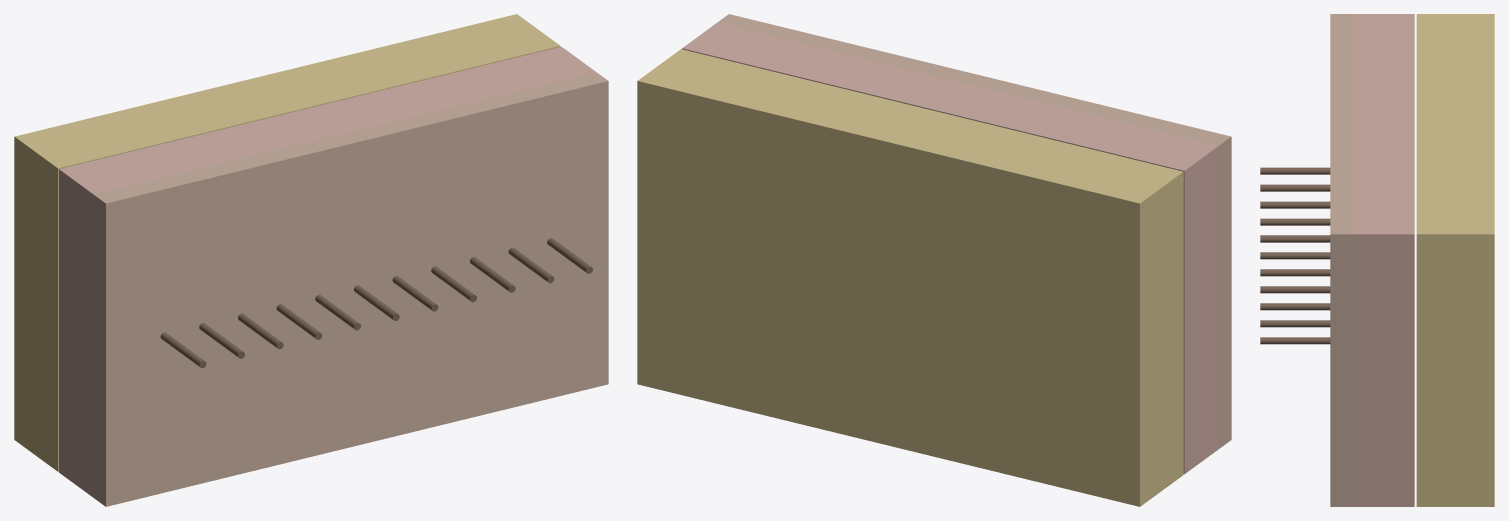
Rendered from skin-g3-high.glb.
3 renders of one model, left to right at view 1: azimuth 30°, elevation 25°; view 2: azimuth 150°, elevation 25°; view 3: azimuth 270°, elevation 25°, orthographic. The views are drawn at different scales.
Parts seen in each view (by area): view 1: epidermis, hypodermis, dermis, hair_cluster; view 2: hypodermis, dermis, epidermis; view 3: hypodermis, dermis, epidermis, hair_cluster, hair_1.
Part boxes in pixels (left/top/right/bottom): epidermis: left=93, top=72, right=608, bottom=506; hypodermis: left=14, top=14, right=560, bottom=471; dermis: left=59, top=46, right=595, bottom=497; hair_cluster: left=199, top=238, right=592, bottom=358; hypodermis: left=637, top=49, right=1183, bottom=506; dermis: left=682, top=23, right=1219, bottom=474; epidermis: left=717, top=14, right=1231, bottom=448; hypodermis: left=1416, top=14, right=1494, bottom=506; dermis: left=1352, top=14, right=1414, bottom=506; epidermis: left=1330, top=14, right=1352, bottom=506; hair_cluster: left=1260, top=184, right=1330, bottom=344; hair_1: left=1260, top=167, right=1330, bottom=174.
Bounding box in the file's own units: 5.2 × 3 × 2.34.
